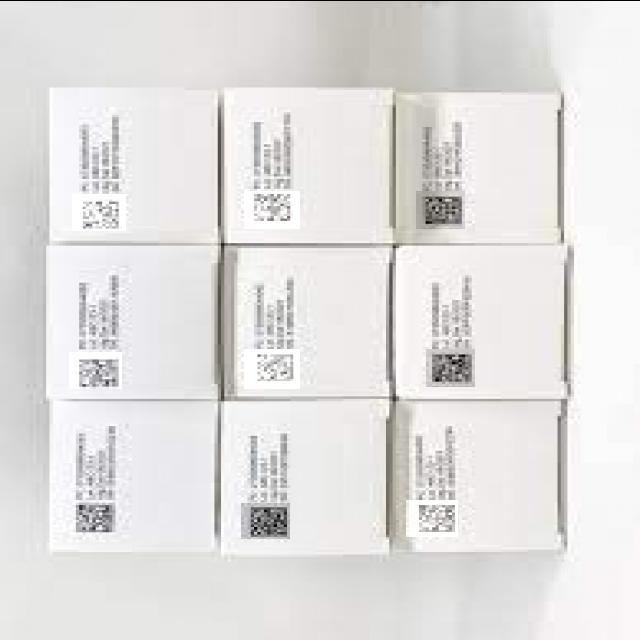Data-Matrix: (244, 348, 300, 388), (244, 190, 300, 228), (72, 193, 126, 230), (69, 499, 122, 536), (69, 351, 122, 388), (406, 499, 458, 536), (426, 348, 475, 386), (416, 190, 465, 228), (241, 502, 290, 538)
